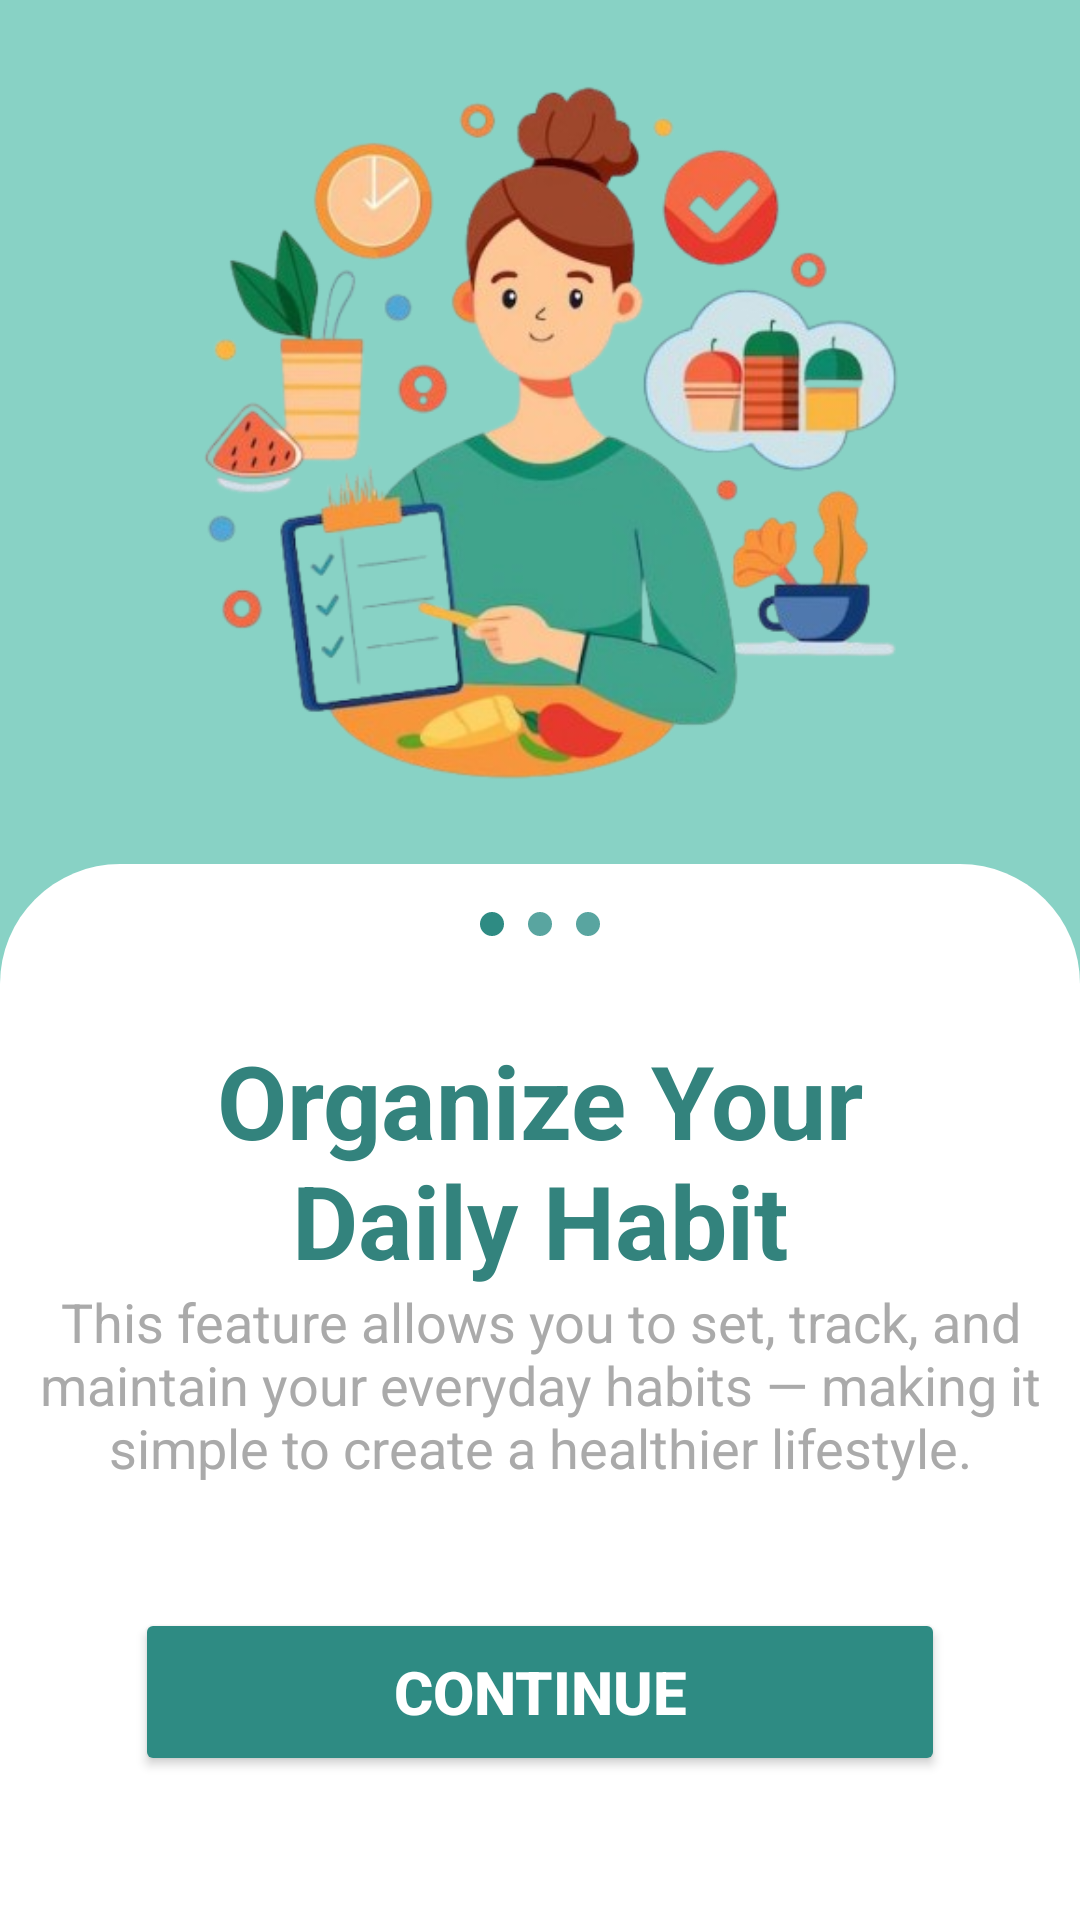

Icon bounding boxes for this 1080 × 1920 phone screenshot, format [left=x1, top=y1, right=x2, bottom=y2]:
dot: [left=480, top=912, right=504, bottom=936], [left=528, top=912, right=552, bottom=936], [left=576, top=912, right=600, bottom=936]
